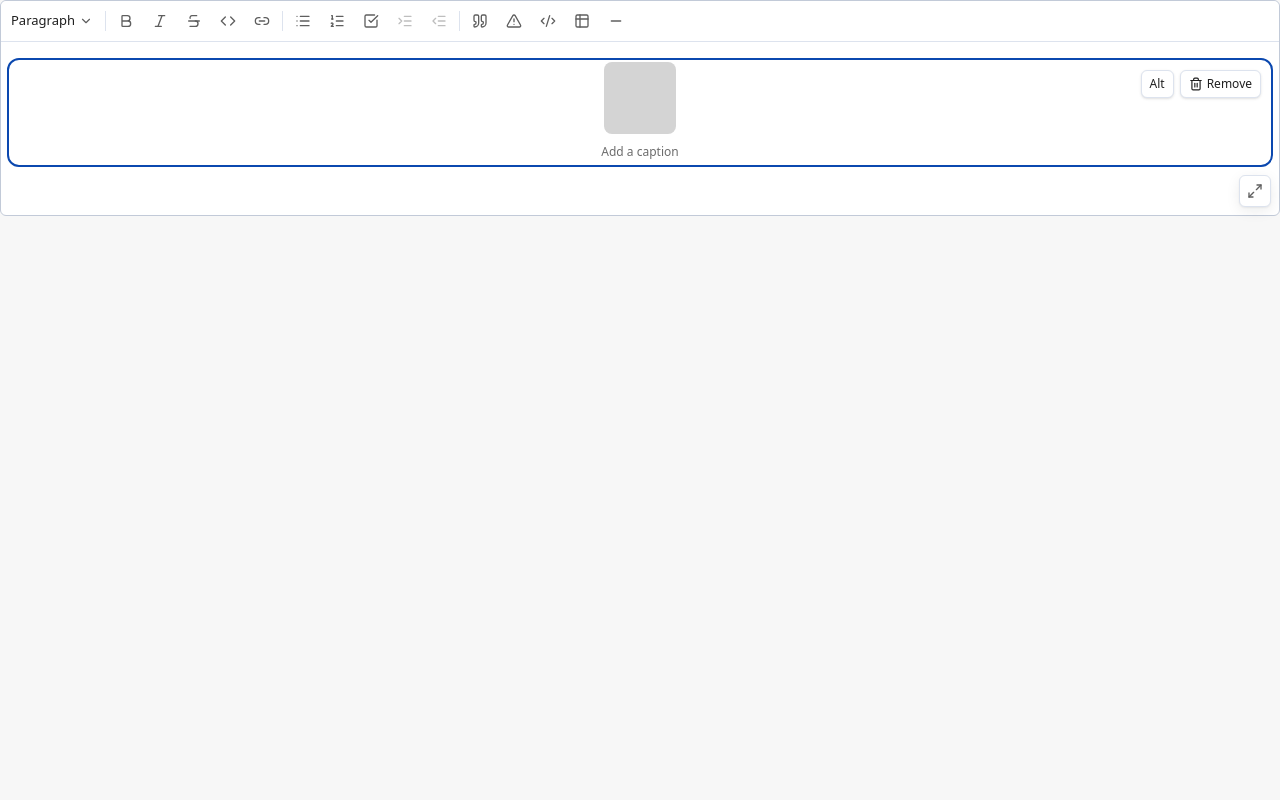
Test: media block in the editor › edits the caption, the alt text, and removes the block
Expected: the field named "Notes" is shown, x1=448 y1=62 x2=1261 y2=163
Type "The door" into the field labelled "caption" at (640, 152), box x1=448 y1=140 x2=832 y2=163
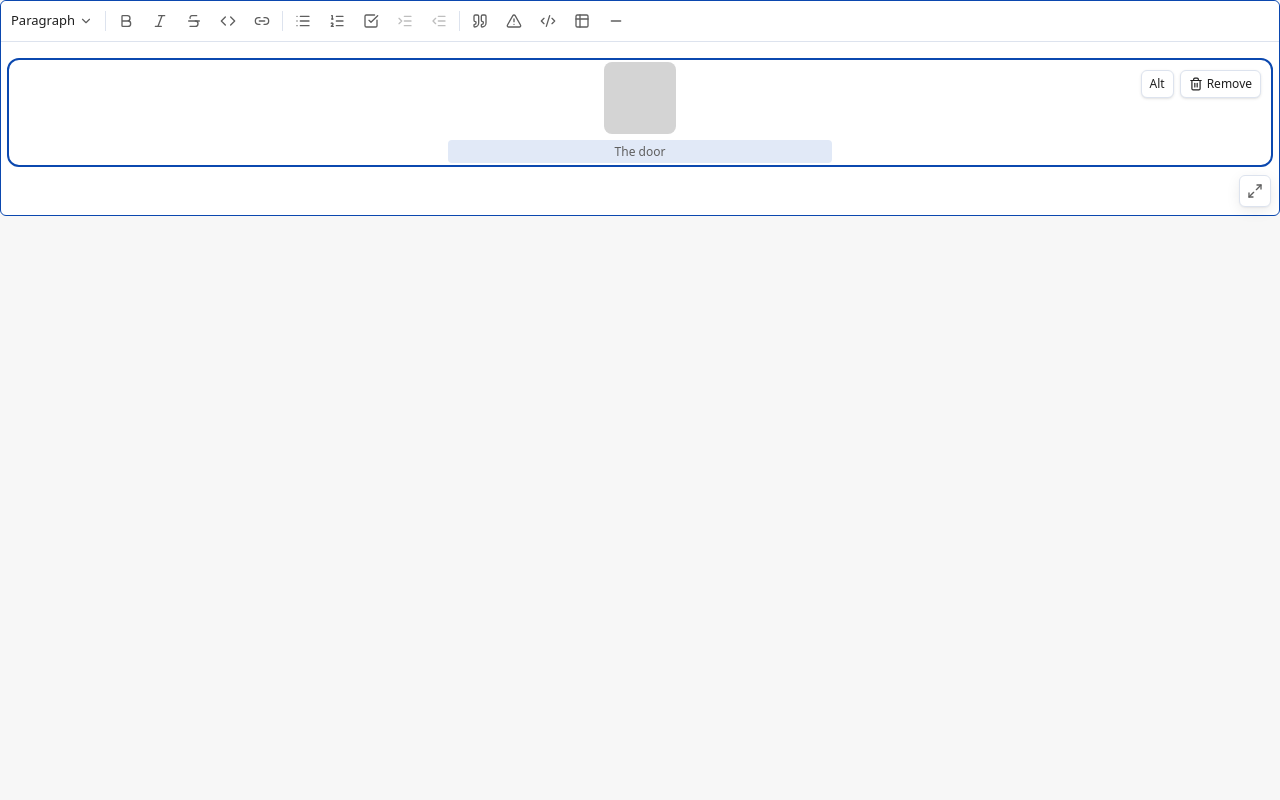
Click the button with aria-label "Alt text" at (1157, 84), box x1=1140 y1=70 x2=1174 y2=98
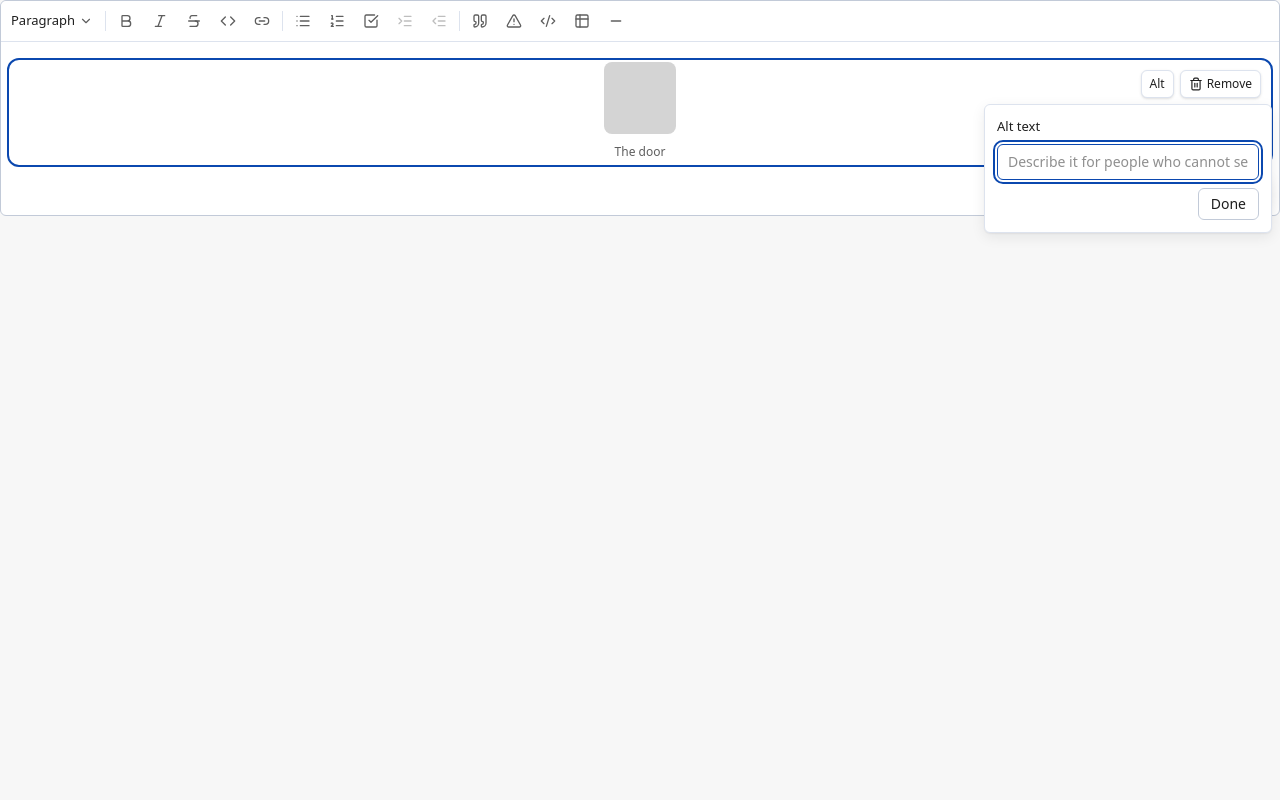
Type "A red door" into the field labelled "Alt text" at (1128, 162), box x1=997 y1=144 x2=1259 y2=180
Then press Enter
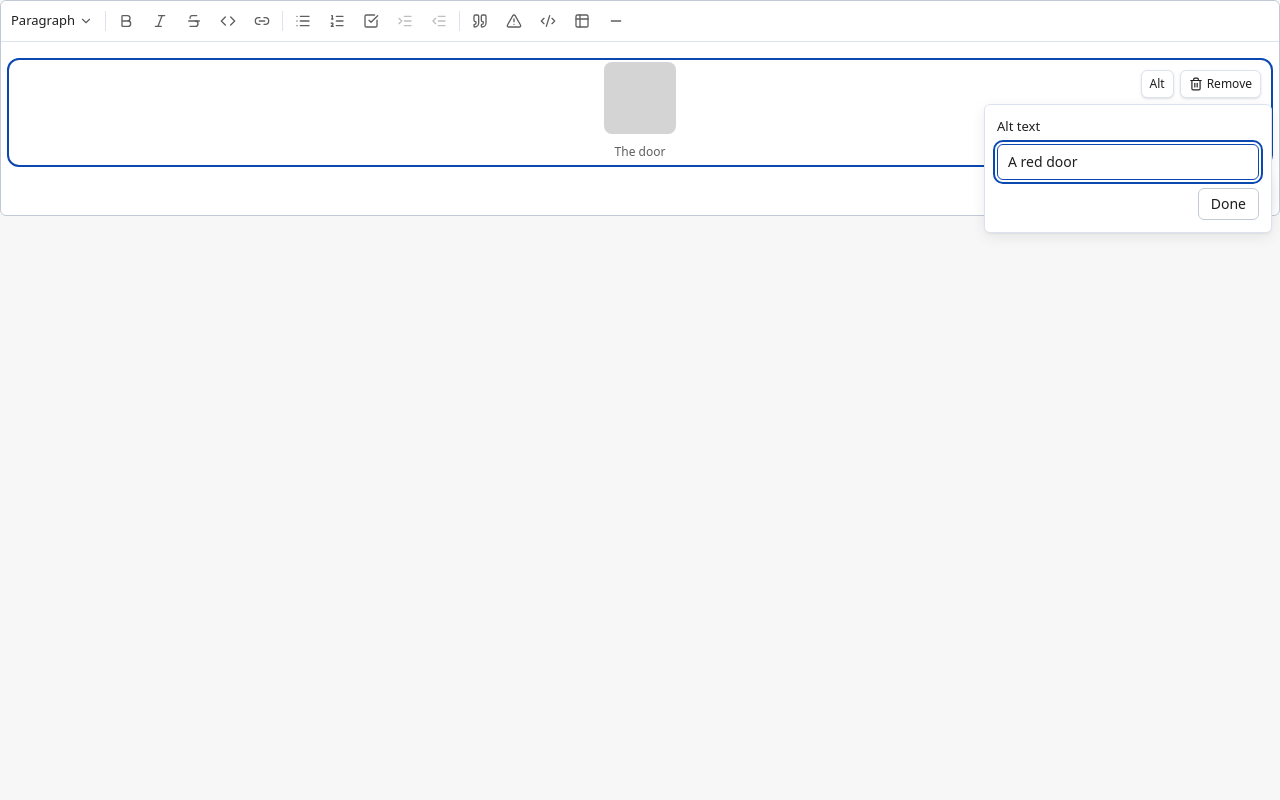
Click the button "Remove" at (1220, 84), box x1=1180 y1=70 x2=1261 y2=98
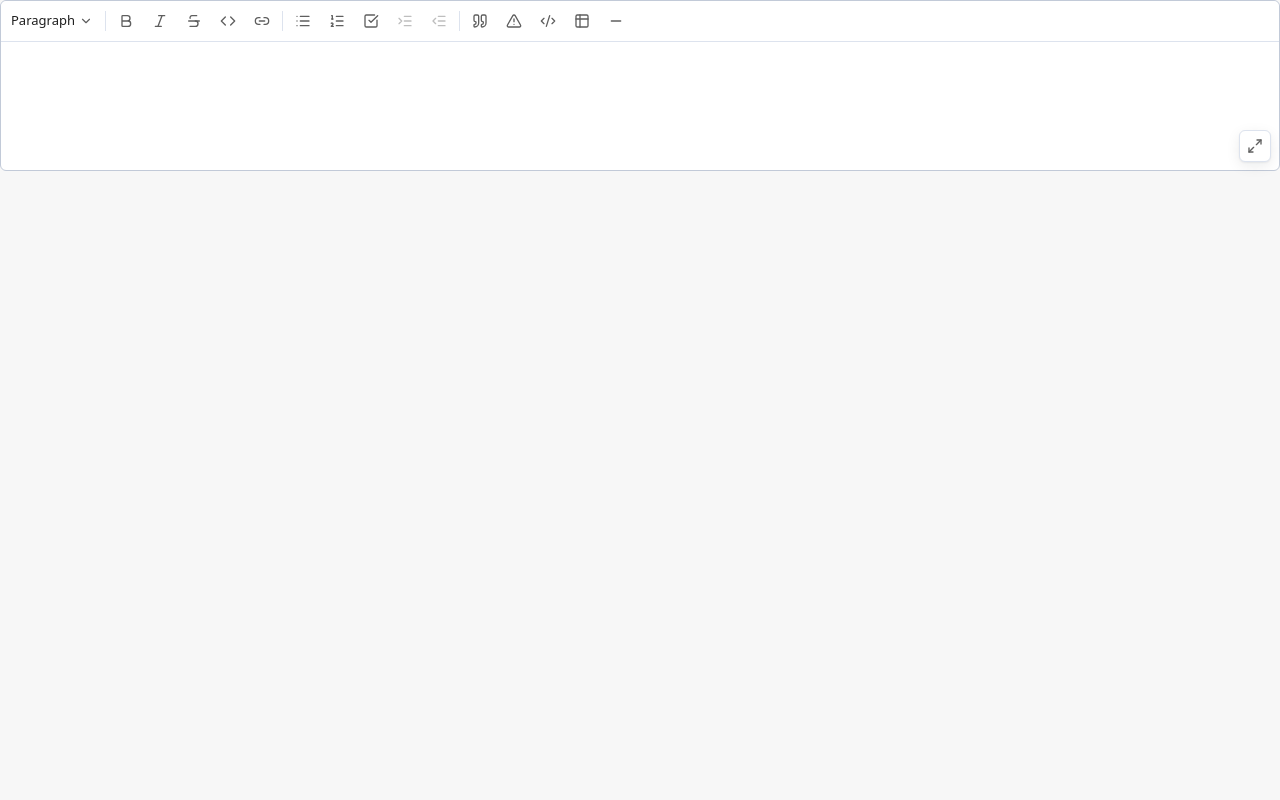
Expected: the element with class "ob-media" is gone
